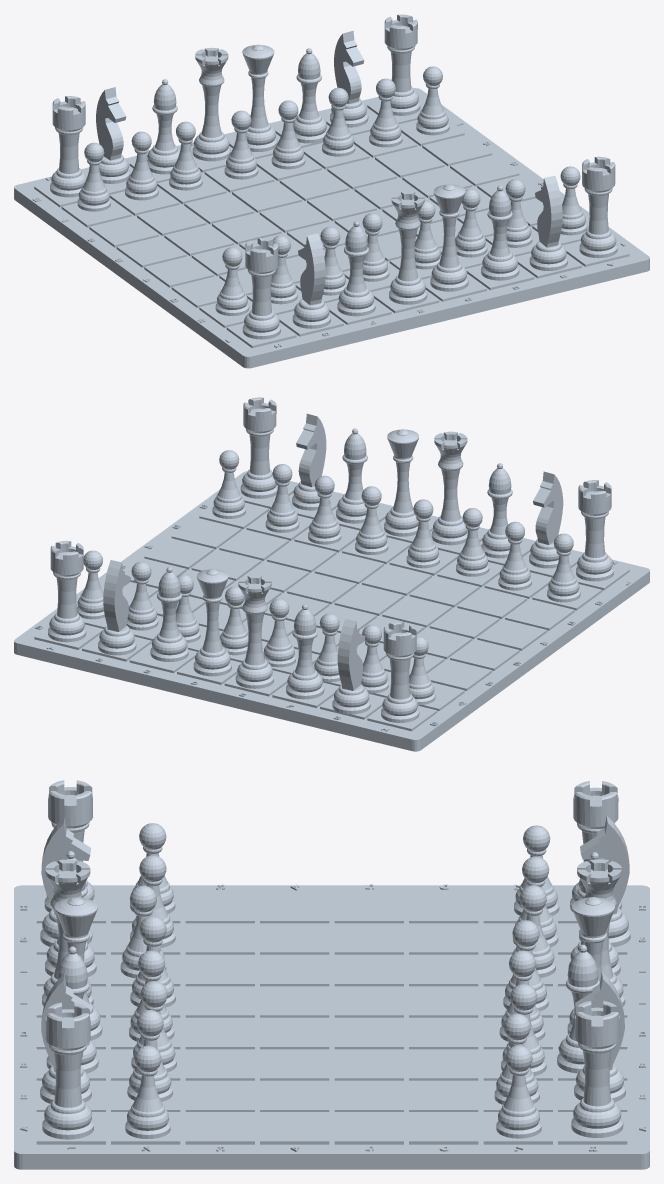
File: chess.glb
The picture shows the model from 3 angles, top to bottom: view 1: azimuth 30°, elevation 25°; view 2: azimuth 150°, elevation 25°; view 3: azimuth 270°, elevation 25°; orthographic projection. The views are drawn at different scales.
Parts seen in each view (by area): view 1: Chess assembly; view 2: Chess assembly; view 3: Chess assembly.
Part boxes in pixels (x1,y1,x2,y2): Chess assembly: [14, 14, 649, 368]; Chess assembly: [14, 397, 649, 751]; Chess assembly: [14, 780, 649, 1169].
Bounding box in the file's own units: 0.367 × 0.097 × 0.367.
